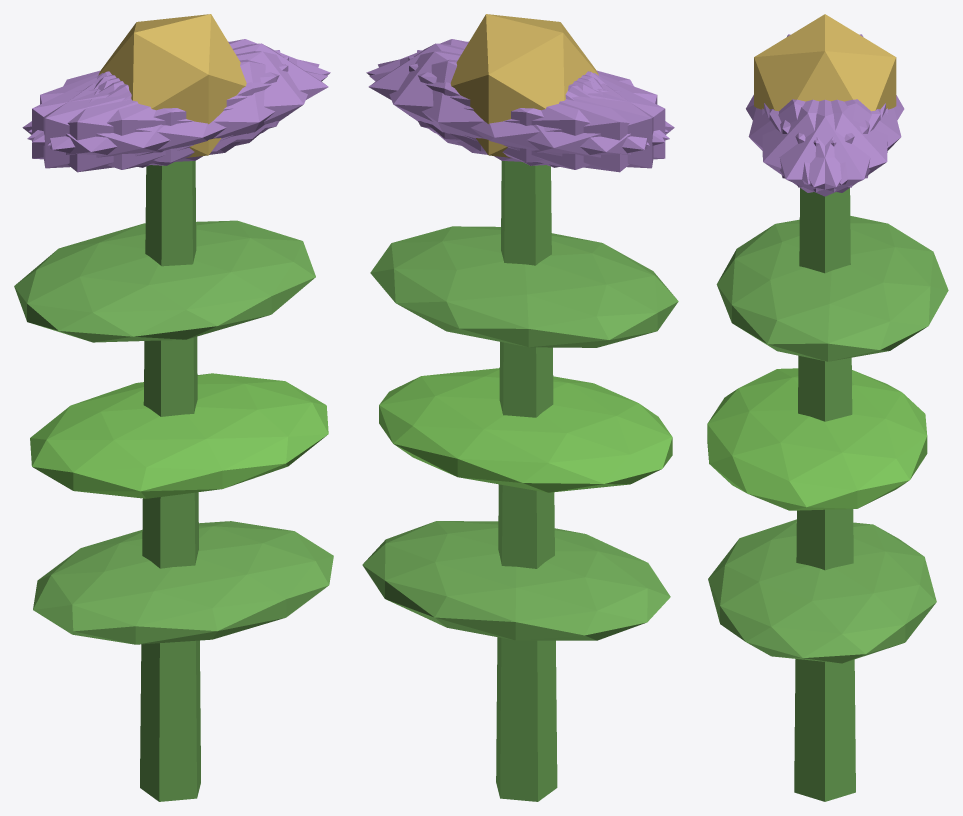
Rendered from commelina-diffusa.glb.
The picture shows the model from 3 angles, left to right: view 1: azimuth 30°, elevation 25°; view 2: azimuth 150°, elevation 25°; view 3: azimuth 270°, elevation 25°; orthographic projection.
Parts seen in each view (by area): view 1: leaf1, leaf0, leaf2, stem, center, petal1, petal6, petal2, petal5, petal7, petal0, petal4 (+2 smaller); view 2: leaf2, leaf0, leaf1, stem, center, petal8, petal3, petal7, petal4, petal2, petal0, petal5 (+2 smaller); view 3: leaf2, leaf0, leaf1, stem, center, petal0, petal5, petal4, petal8, petal1.
Part boxes in pixels (x1,y1,x2,y2): leaf1: (30, 373, 328, 498); leaf0: (33, 521, 333, 644); leaf2: (14, 220, 315, 342); stem: (140, 161, 200, 801); center: (98, 14, 246, 157); petal1: (27, 59, 327, 169); petal6: (22, 73, 239, 172); petal2: (43, 50, 280, 168); petal5: (47, 51, 319, 162); petal7: (32, 56, 288, 165); petal0: (98, 43, 328, 151); petal4: (29, 39, 330, 142); leaf2: (370, 226, 678, 347); leaf0: (362, 521, 670, 640); leaf1: (379, 368, 672, 492); stem: (496, 161, 557, 801); center: (450, 14, 598, 157); petal8: (369, 59, 669, 169); petal3: (457, 73, 674, 172); petal7: (417, 50, 653, 168); petal4: (378, 51, 649, 162); petal2: (408, 56, 665, 165); petal0: (368, 43, 598, 151); petal5: (366, 39, 668, 142); leaf2: (716, 216, 948, 361); leaf0: (708, 519, 936, 663); leaf1: (707, 368, 927, 510); stem: (794, 188, 855, 801); center: (754, 14, 896, 111); petal0: (764, 99, 885, 196); petal5: (762, 99, 880, 192); petal4: (769, 99, 887, 192); petal8: (780, 99, 901, 184); petal1: (748, 99, 869, 184).
Size of the model in its own units: 0.1452 by 0.3591 by 0.1039.
